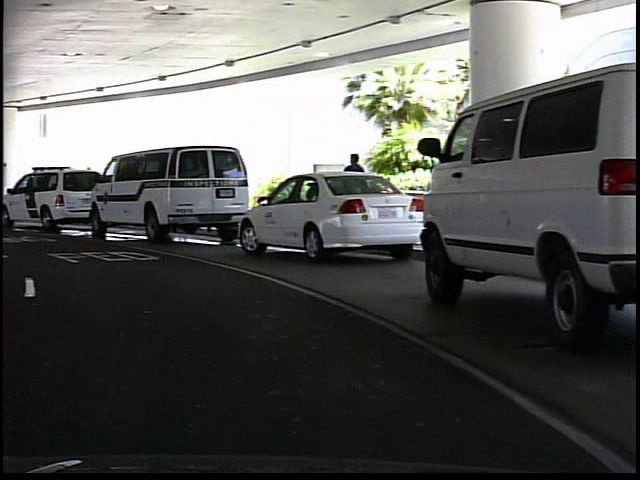person: (338, 148, 368, 237)
